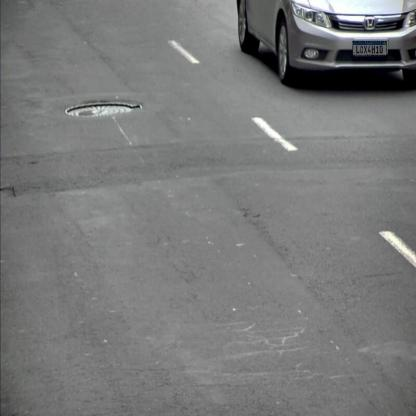PlacaM: (352, 41, 387, 55)
